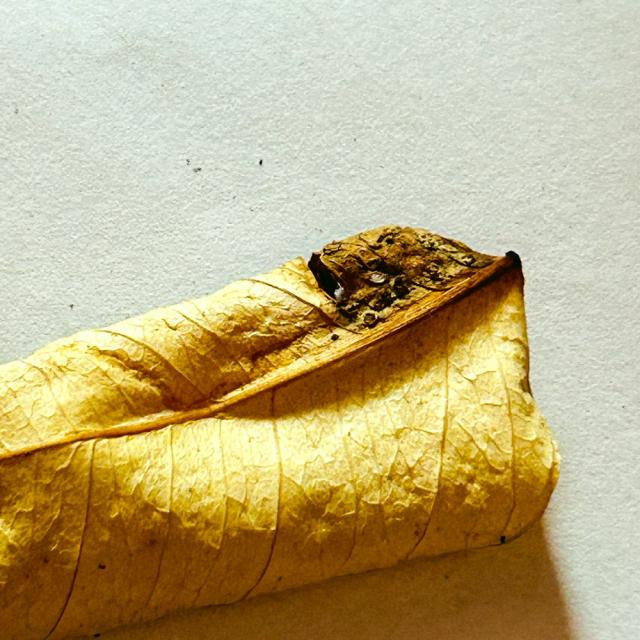DryLeaf_Lemon: (0, 225, 559, 639)
